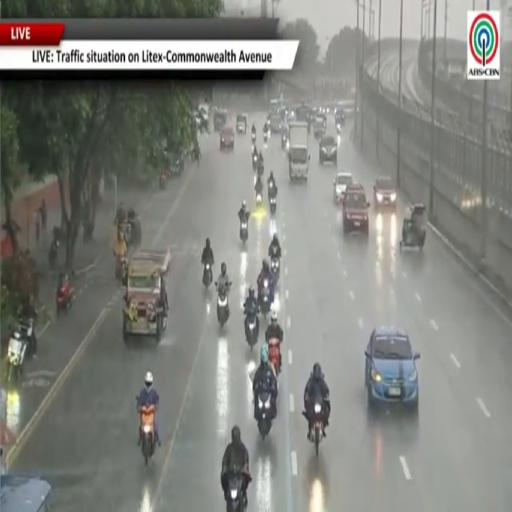bus: (0, 475, 50, 511)
car: (365, 327, 419, 410), (342, 184, 369, 236), (374, 176, 396, 209), (334, 172, 353, 203), (319, 135, 337, 164), (168, 152, 185, 175), (220, 127, 235, 150), (213, 109, 227, 132), (313, 114, 326, 138), (268, 112, 282, 134), (236, 115, 247, 134), (198, 103, 210, 119), (335, 107, 344, 126)
jeepney: (123, 250, 170, 341)
motorcycle: (6, 331, 28, 383), (140, 406, 155, 465), (18, 314, 37, 355), (257, 392, 272, 440), (227, 474, 246, 511), (56, 280, 74, 315), (312, 402, 323, 456), (216, 283, 229, 327), (245, 312, 258, 350), (268, 338, 281, 375), (128, 215, 142, 247), (260, 280, 271, 316), (48, 238, 59, 269), (115, 258, 127, 282), (203, 264, 212, 289), (270, 258, 279, 282), (240, 219, 248, 243), (124, 222, 131, 247), (159, 173, 167, 189), (270, 196, 276, 214), (257, 162, 264, 177), (252, 155, 258, 171), (256, 192, 262, 206), (282, 135, 287, 149), (336, 123, 341, 134), (264, 131, 268, 143), (252, 132, 256, 142)
tricycle: (400, 204, 426, 250)
truck: (288, 122, 309, 180)
